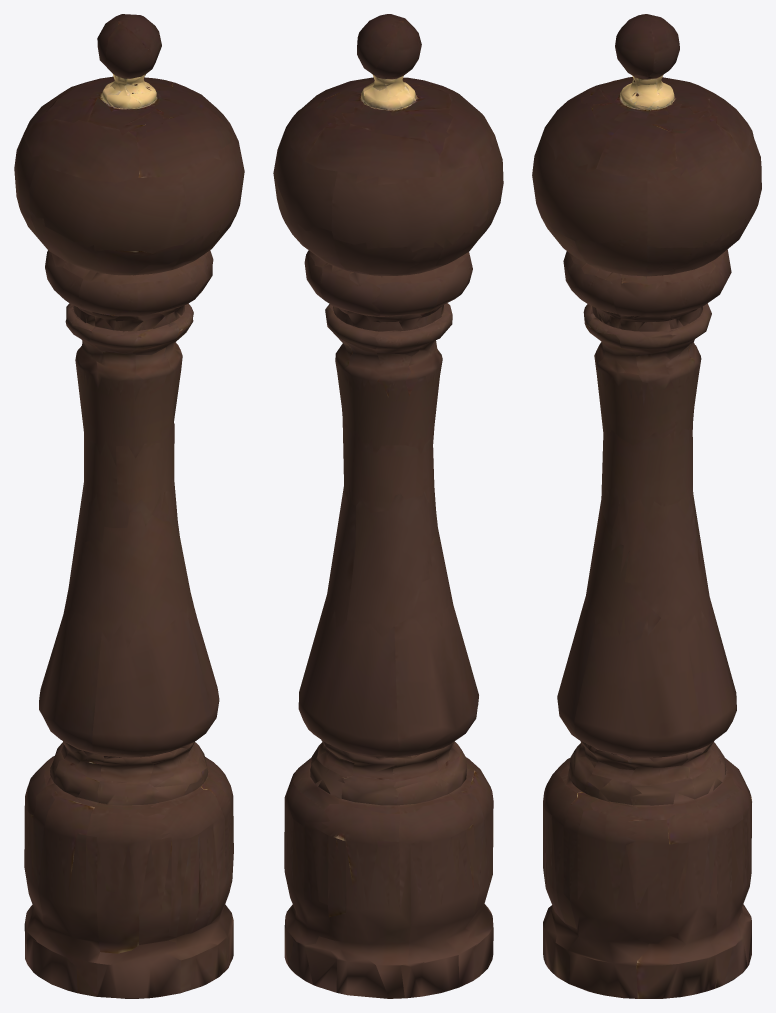
Rendered from mill.glb.
3 views of the same model, side by side, from view 1: azimuth 30°, elevation 25°; view 2: azimuth 150°, elevation 25°; view 3: azimuth 270°, elevation 25° (orthographic).
Bounding box in the file's own units: 0.4223 × 1.9 × 0.4222.
Materials: 1 (1 with a texture image).
